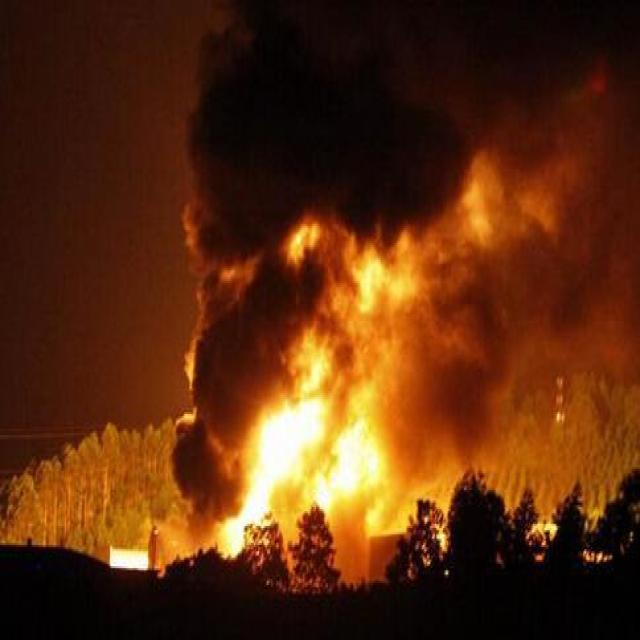fire: (214, 250, 526, 542)
smoke: (165, 8, 634, 400)
